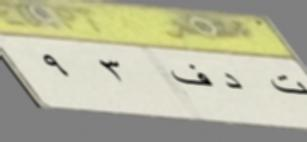3: (95, 55, 126, 91)
9: (41, 48, 72, 86)
daal: (222, 68, 246, 99)
faa: (169, 60, 211, 95)
taa: (263, 70, 307, 105)
